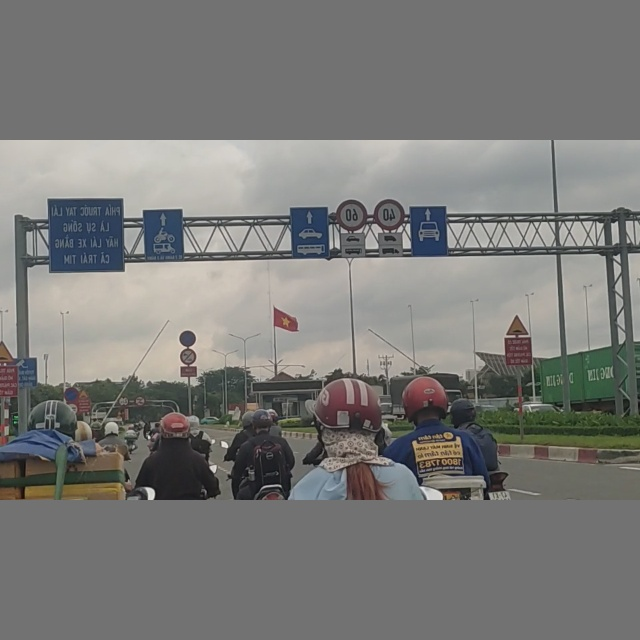Camera: (15, 357, 37, 387)
P.107: (135, 395, 146, 407), (119, 396, 129, 407)
P.111: (180, 349, 196, 365)
P.127*40: (373, 199, 405, 231)
P.127*60: (336, 200, 367, 231)
P.130: (179, 330, 195, 347)
P.131a: (64, 387, 78, 401)
W.221b: (505, 314, 528, 336), (0, 341, 13, 363), (79, 388, 89, 399)
